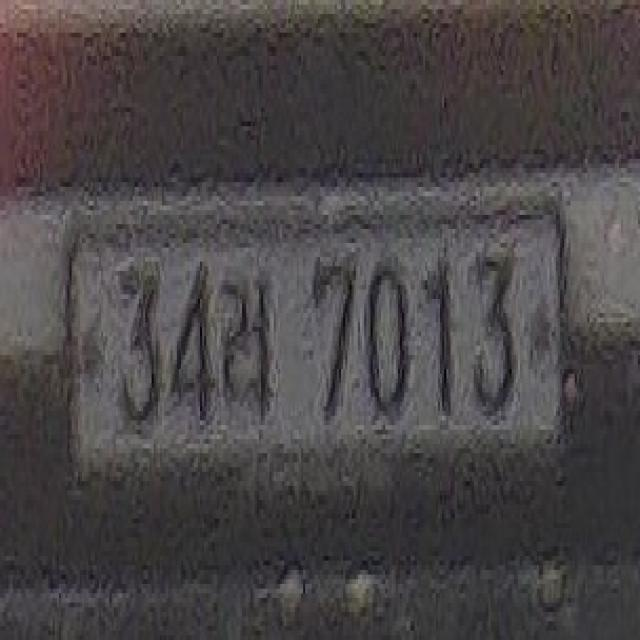0: (364, 257, 411, 420)
1: (423, 248, 457, 420)
3: (114, 262, 164, 429), (469, 248, 520, 411)
4: (162, 262, 219, 429)
7: (309, 257, 358, 420)
leo: (214, 266, 274, 425)
license_plate: (67, 215, 573, 486)
